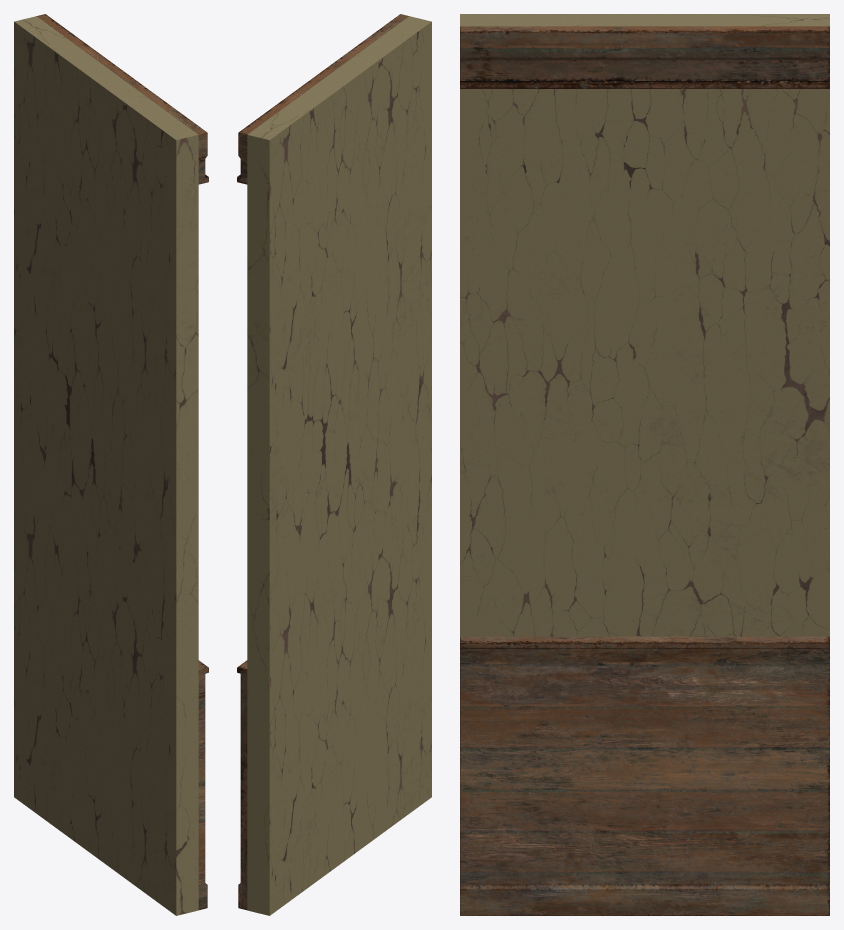
File: Wall_halfLength.fbx
3 views of the same model, side by side, from view 1: azimuth 30°, elevation 25°; view 2: azimuth 150°, elevation 25°; view 3: azimuth 270°, elevation 25° (orthographic). The views are drawn at different scales.
Visible parts, largest first — view 1: Wall_plain.002, WallTrim_Bot.004; view 2: Wall_plain.002, WallTrim_Bot.004; view 3: Wall_plain.002, WallTrim_Bot.004.
Boxes of the visible parts, x1,y1,x2,y2 form: Wall_plain.002: (14, 16, 198, 915); WallTrim_Bot.004: (37, 14, 208, 909); Wall_plain.002: (247, 16, 431, 915); WallTrim_Bot.004: (237, 14, 408, 909); Wall_plain.002: (460, 14, 829, 636); WallTrim_Bot.004: (460, 26, 829, 915).
Size of the model in its own units: 0.1458 by 1.25 by 3.3.
Materials: 2 (2 with a texture image).
